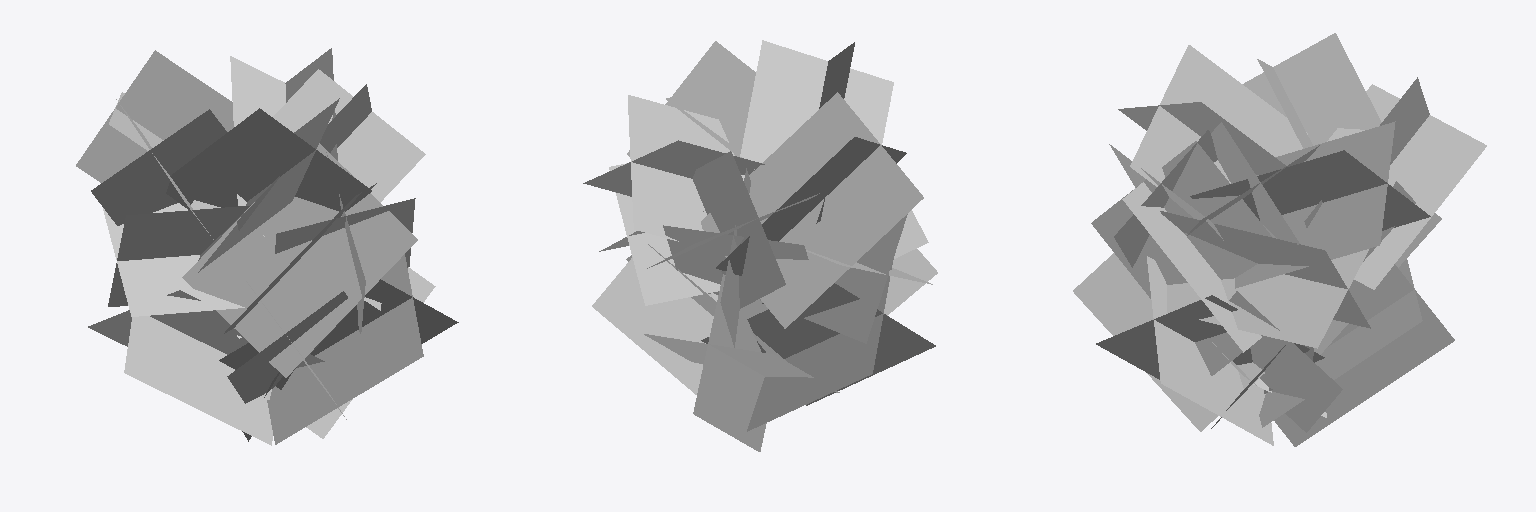
The model's file is leaves.obj.
The picture shows the model from 3 angles: view 1: azimuth 30°, elevation 25°; view 2: azimuth 150°, elevation 25°; view 3: azimuth 270°, elevation 25°; orthographic projection.
Parts seen in each view (by area): view 1: Mesh.013_Mesh.005_Mesh.021_Mes, Mesh.027_Mesh.008_Mesh.017_Mes, Mesh.015_Mesh.003_Mesh.007_Mes, Mesh.030_Mesh.011_Mesh.023_Mes, Mesh.028_Mesh.015_Mesh.018_Mes, Mesh.020_Mesh.013_Mesh.012_Mes, Mesh.012_Mesh.016_Mesh.001_Mes, Mesh.016_Mesh.021_Mesh.008_Mes, Mesh.007_Mesh.006_Mesh.022_Mes, Mesh.002_Mesh.018_Mesh.027_Mes, Mesh.004_Mesh.020_Mesh.016_Mes, Mesh.011_Mesh.022_Mesh.014_Mes (+9 smaller); view 2: Mesh.012_Mesh.016_Mesh.001_Mes, Mesh.011_Mesh.022_Mesh.014_Mes, Mesh.010_Mesh.027_Mesh.003_Mes, Mesh.019_Mesh.001_Mesh.028_Mes, Mesh.022_Mesh.023_Mesh.004_Mes, Mesh.004_Mesh.020_Mesh.016_Mes, Mesh.028_Mesh.015_Mesh.018_Mes, Mesh.030_Mesh.011_Mesh.023_Mes, Mesh.017_Mesh.002_Mesh.019_Mes, Mesh.016_Mesh.021_Mesh.008_Mes, Mesh.008_Mesh.004_Mesh.010_Mes, Mesh.014_Mesh.017_Mesh.029_Mes (+8 smaller); view 3: Mesh.018_Mesh.028_Mesh.013_Mes, Mesh.027_Mesh.008_Mesh.017_Mes, Mesh.029_Mesh_Mesh.024_Mesh.01, Mesh.009_Mesh.012_Mesh_Mesh.01, Mesh.022_Mesh.023_Mesh.004_Mes, Mesh.008_Mesh.004_Mesh.010_Mes, Mesh.024_Mesh.024_Mesh.015_Mes, Mesh.002_Mesh.018_Mesh.027_Mes, Mesh.010_Mesh.027_Mesh.003_Mes, Mesh.025_Mesh.010_Mesh.005_Mes, Mesh.014_Mesh.017_Mesh.029_Mes, Mesh.019_Mesh.001_Mesh.028_Mes (+10 smaller).
Part boxes in pixels (left/top/right/bottom): Mesh.013_Mesh.005_Mesh.021_Mes: left=182, top=143, right=417, bottom=377; Mesh.027_Mesh.008_Mesh.017_Mes: left=166, top=108, right=371, bottom=211; Mesh.015_Mesh.003_Mesh.007_Mes: left=267, top=254, right=423, bottom=444; Mesh.030_Mesh.011_Mesh.023_Mes: left=124, top=316, right=272, bottom=445; Mesh.028_Mesh.015_Mesh.018_Mes: left=76, top=50, right=233, bottom=182; Mesh.020_Mesh.013_Mesh.012_Mes: left=191, top=69, right=425, bottom=209; Mesh.012_Mesh.016_Mesh.001_Mes: left=91, top=109, right=227, bottom=225; Mesh.016_Mesh.021_Mesh.008_Mes: left=108, top=205, right=250, bottom=306; Mesh.007_Mesh.006_Mesh.022_Mes: left=103, top=203, right=244, bottom=316; Mesh.002_Mesh.018_Mesh.027_Mes: left=219, top=279, right=458, bottom=369; Mesh.004_Mesh.020_Mesh.016_Mes: left=88, top=290, right=324, bottom=367; Mesh.011_Mesh.022_Mesh.014_Mes: left=198, top=98, right=339, bottom=272; Mesh.012_Mesh.016_Mesh.001_Mes: left=701, top=92, right=923, bottom=328; Mesh.011_Mesh.022_Mesh.014_Mes: left=740, top=40, right=893, bottom=180; Mesh.010_Mesh.027_Mesh.003_Mes: left=628, top=95, right=734, bottom=241; Mesh.019_Mesh.001_Mesh.028_Mes: left=592, top=257, right=713, bottom=394; Mesh.022_Mesh.023_Mesh.004_Mes: left=693, top=274, right=767, bottom=451; Mesh.004_Mesh.020_Mesh.016_Mes: left=747, top=259, right=893, bottom=431; Mesh.028_Mesh.015_Mesh.018_Mes: left=693, top=151, right=785, bottom=308; Mesh.030_Mesh.011_Mesh.023_Mes: left=701, top=283, right=935, bottom=405; Mesh.017_Mesh.002_Mesh.019_Mes: left=627, top=41, right=811, bottom=156; Mesh.016_Mesh.021_Mesh.008_Mes: left=760, top=214, right=907, bottom=343; Mesh.008_Mesh.004_Mesh.010_Mes: left=716, top=137, right=906, bottom=275; Mesh.014_Mesh.017_Mesh.029_Mes: left=609, top=163, right=720, bottom=305; Mesh.018_Mesh.028_Mesh.013_Mes: left=1091, top=141, right=1272, bottom=375; Mesh.027_Mesh.008_Mesh.017_Mes: left=1130, top=45, right=1307, bottom=186; Mesh.029_Mesh_Mesh.024_Mesh.01: left=1327, top=84, right=1486, bottom=289; Mesh.009_Mesh.012_Mesh_Mesh.01: left=1235, top=121, right=1395, bottom=288; Mesh.022_Mesh.023_Mesh.004_Mes: left=1274, top=264, right=1454, bottom=446; Mesh.008_Mesh.004_Mesh.010_Mes: left=1243, top=33, right=1381, bottom=145; Mesh.024_Mesh.024_Mesh.015_Mes: left=1167, top=249, right=1368, bottom=348; Mesh.002_Mesh.018_Mesh.027_Mes: left=1147, top=256, right=1273, bottom=445; Mesh.010_Mesh.027_Mesh.003_Mes: left=1190, top=150, right=1430, bottom=230; Mesh.025_Mesh.010_Mesh.005_Mes: left=1073, top=253, right=1264, bottom=431; Mesh.014_Mesh.017_Mesh.029_Mes: left=1160, top=211, right=1370, bottom=328; Mesh.019_Mesh.001_Mesh.028_Mes: left=1229, top=291, right=1342, bottom=432.
Bounding box in the file's own units: 8.71 × 9.9 × 9.73.